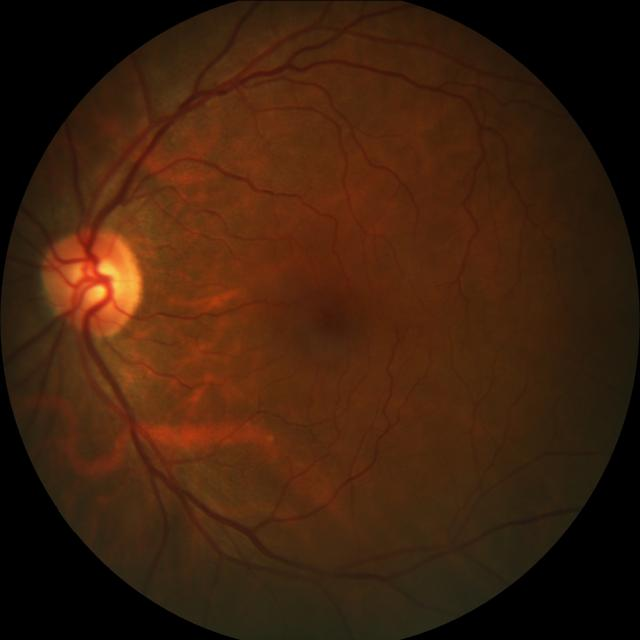OC: (72, 259, 121, 306)
OD: (43, 225, 147, 335)
